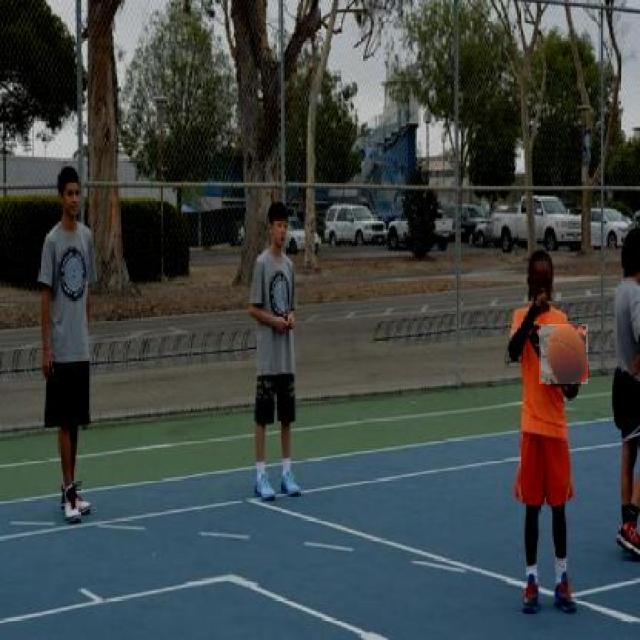Ball: (539, 324, 588, 384)
